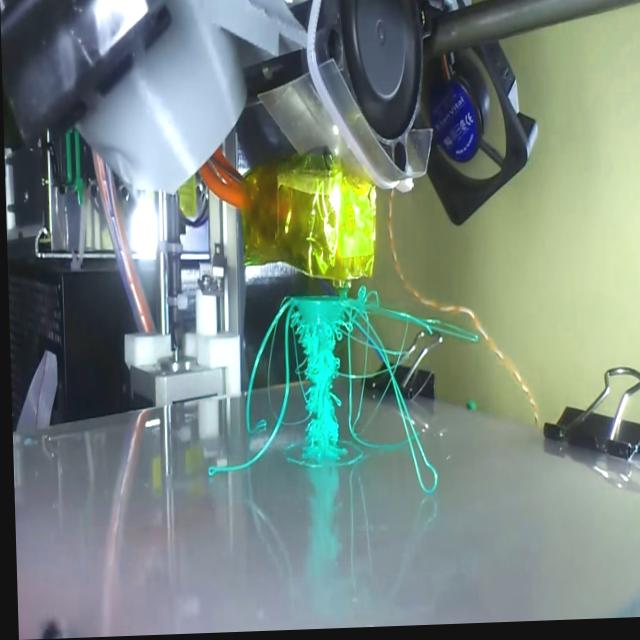spaghetti: (252, 284, 483, 534)
